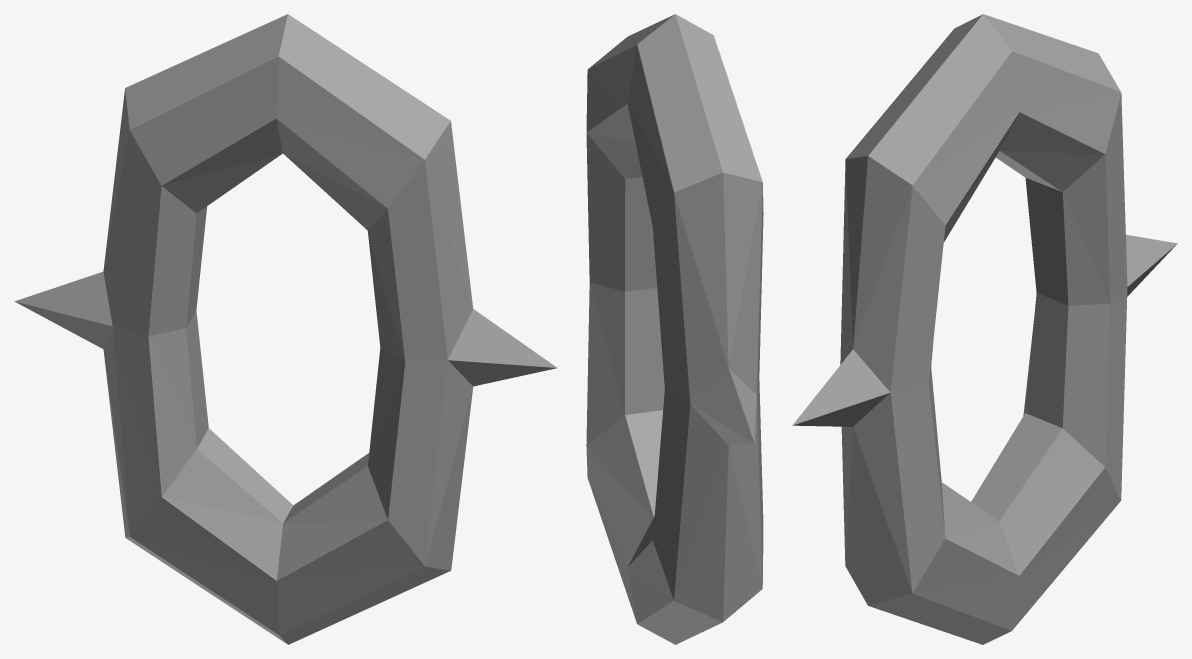
Rendered from ChainLink_1.fbx.
3 renders of one model, left to right at view 1: azimuth 30°, elevation 25°; view 2: azimuth 150°, elevation 25°; view 3: azimuth 270°, elevation 25°, orthographic.
Parts seen in each view (by area): view 1: ChainLink_1; view 2: ChainLink_1; view 3: ChainLink_1.
Part boxes in pixels (x1=…): ChainLink_1: x1=14, y1=14, x2=556, y2=644; ChainLink_1: x1=586, y1=14, x2=763, y2=644; ChainLink_1: x1=792, y1=14, x2=1177, y2=644.
Bounding box in the file's own units: 9.08 × 15.61 × 8.65.
